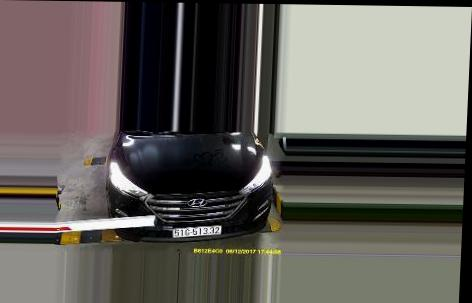License_Plate: (172, 226, 223, 241)
